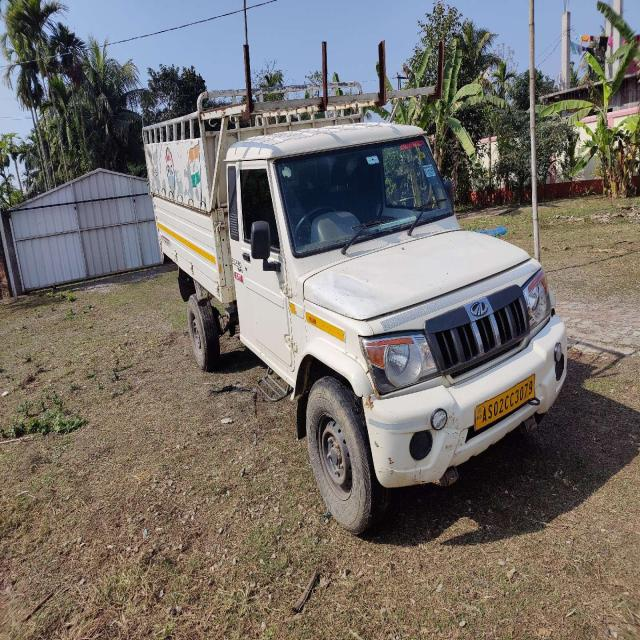light_vehicle: (148, 118, 560, 449)
